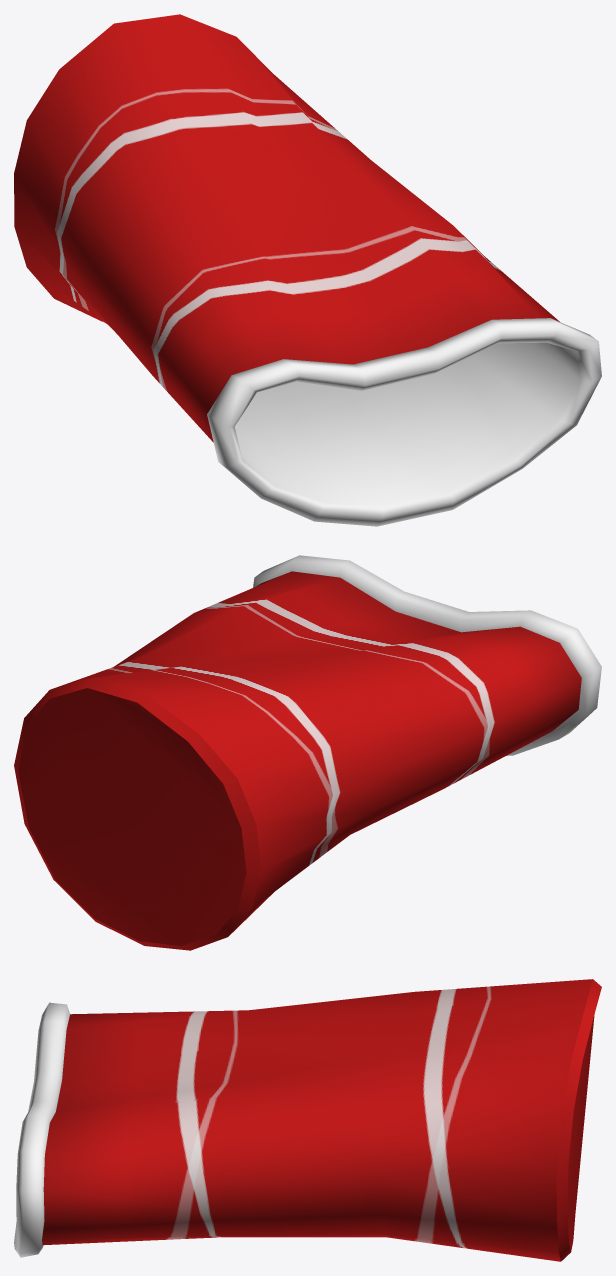
The model's file is CupBroken.FBX.
3 renders of one model, top to bottom at view 1: azimuth 30°, elevation 25°; view 2: azimuth 150°, elevation 25°; view 3: azimuth 270°, elevation 25°, orthographic. The views are drawn at different scales.
Visible parts, largest first — view 1: CupBroken; view 2: CupBroken; view 3: CupBroken.
Part boxes in pixels (x1,y1,x2,y2): CupBroken: [14, 14, 601, 526]; CupBroken: [14, 555, 601, 950]; CupBroken: [14, 979, 601, 1261].
Bounding box in the file's own units: 12.09 × 8.66 × 17.6.
